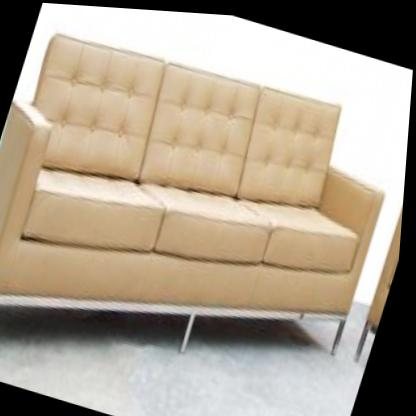Sofa: (0, 9, 415, 416)
